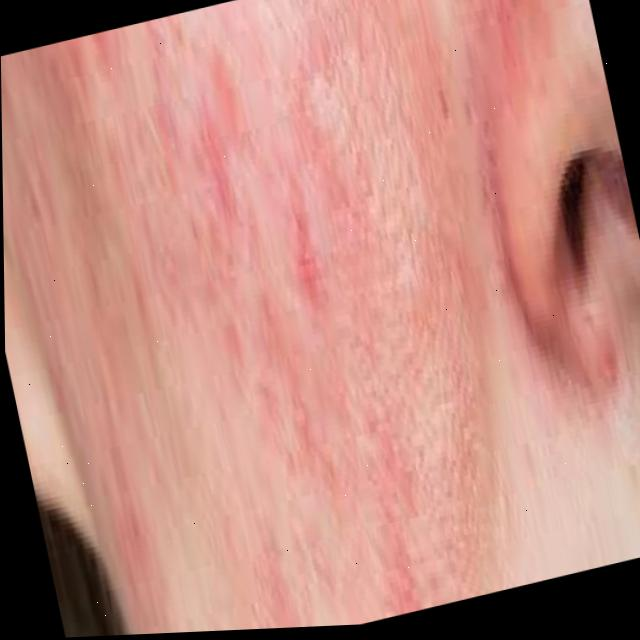Rosacea: (19, 0, 594, 488)
